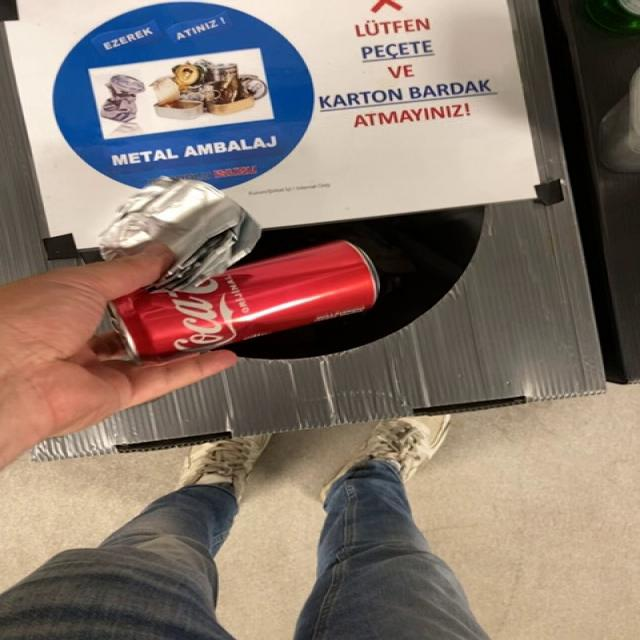bin: (1, 0, 604, 460)
metal: (108, 241, 380, 362)
